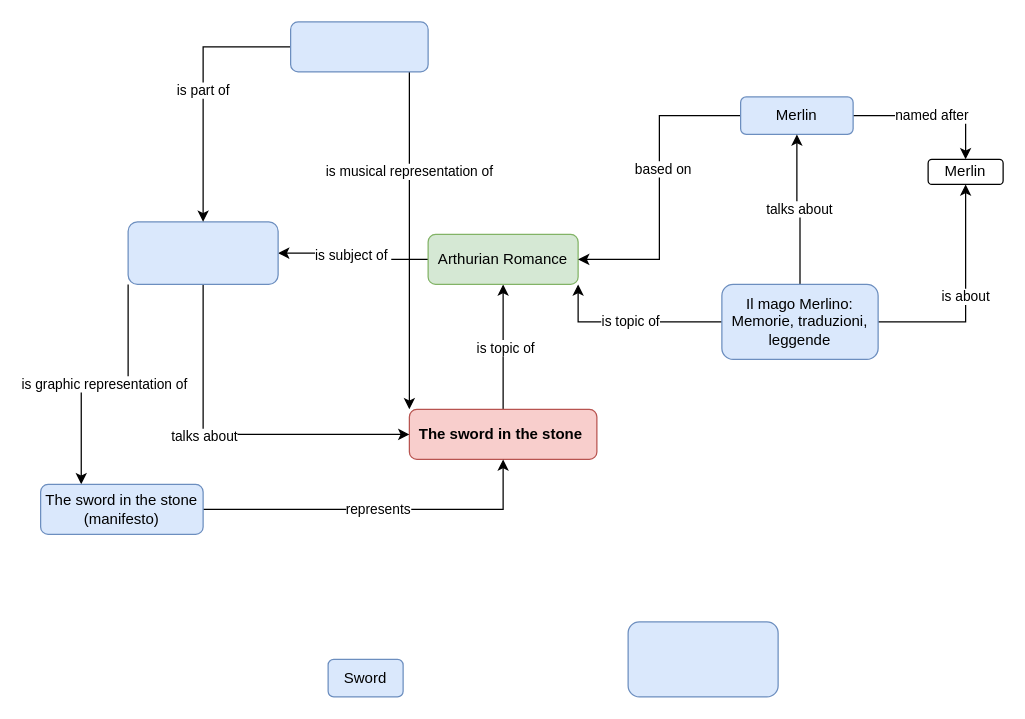
Some shapes in this 1025 by 719 pixel diagram are drawn without their labels. The centre of each missing label's shape, as x and y in pixels:
"King Arthur (from the Heroes Tapestries)" goes at point 702,659.
"The sword in the stone (animation)" goes at point 202,252.
"The sword in the stone (music)" goes at point 358,46.
